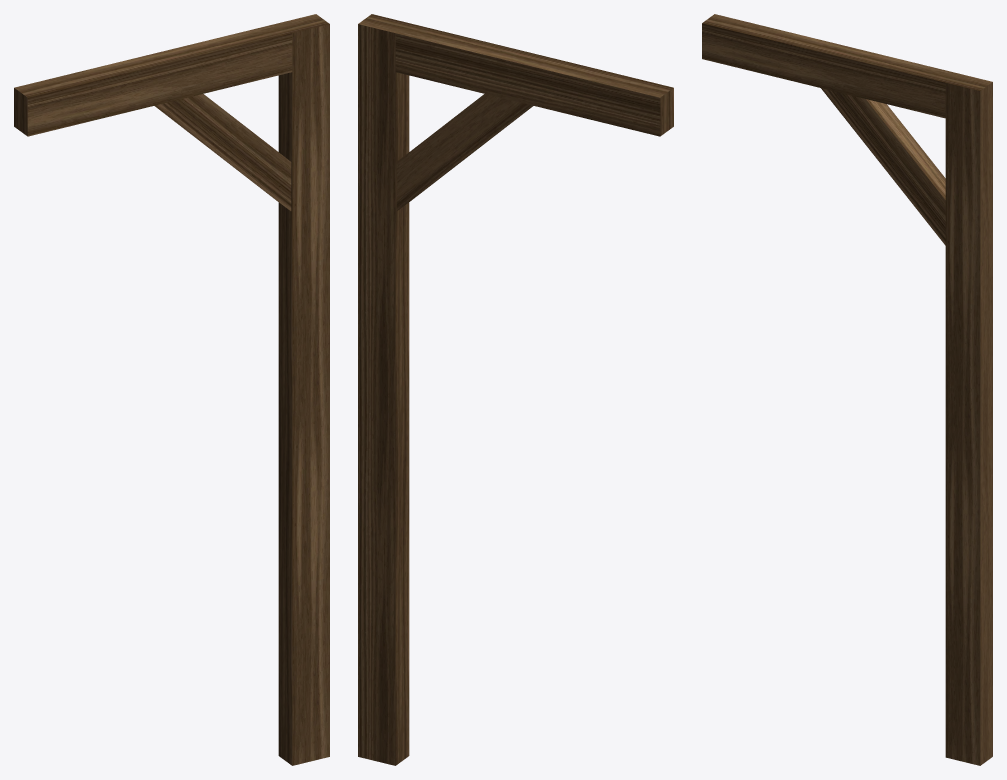
The model's file is Wooden 07.glb.
3 views of the same model, side by side, from view 1: azimuth 30°, elevation 25°; view 2: azimuth 150°, elevation 25°; view 3: azimuth 330°, elevation 25° (orthographic). The views are drawn at different scales.
Visible parts, largest first — view 1: Wooden_07; view 2: Wooden_07; view 3: Wooden_07.
Part boxes in pixels (left/top/right/bottom): Wooden_07: left=14, top=14, right=329, bottom=765; Wooden_07: left=358, top=14, right=673, bottom=765; Wooden_07: left=702, top=14, right=992, bottom=765.
Size of the model in its own units: 0.6397 by 1.48 by 0.0504.
1 material, 1 textured.
